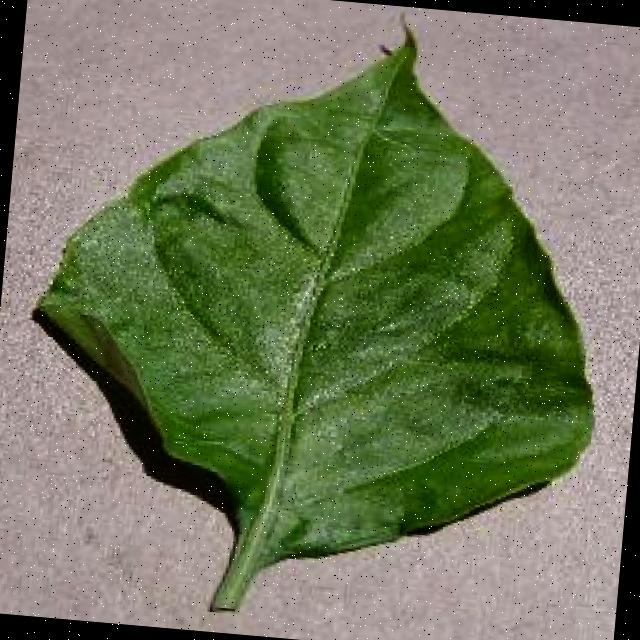Leaf: (12, 0, 638, 610)
